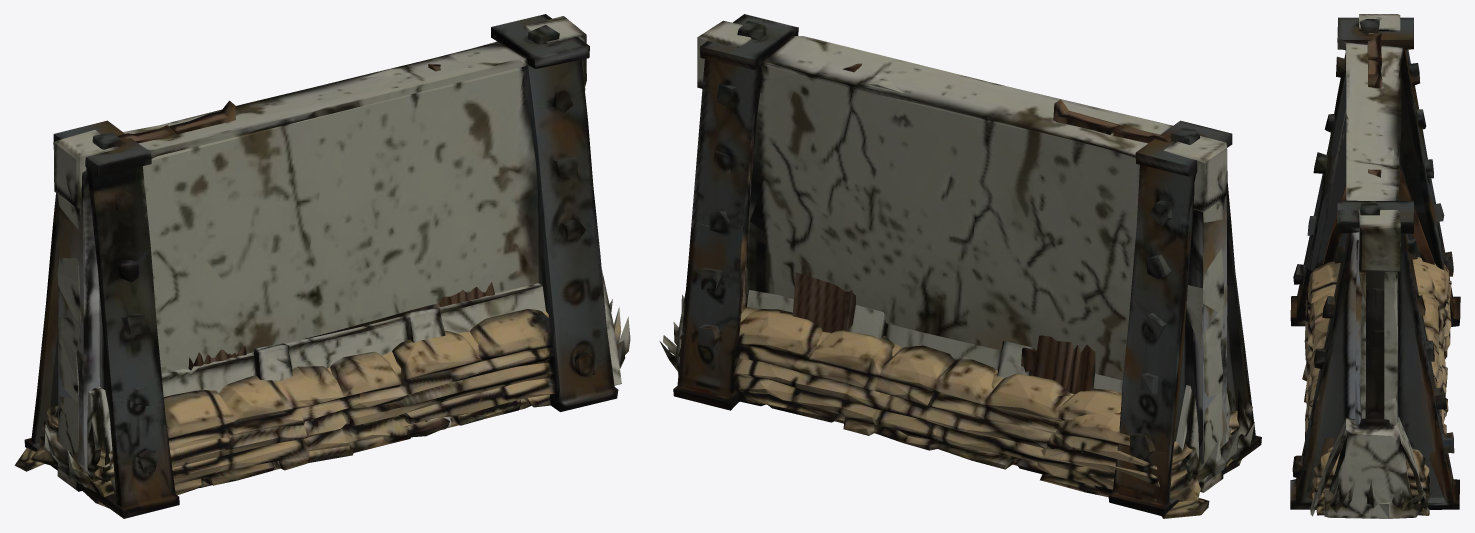
File: fences+3d+model.fbx
The picture shows the model from 3 angles, left to right: view 1: azimuth 30°, elevation 25°; view 2: azimuth 150°, elevation 25°; view 3: azimuth 270°, elevation 25°; orthographic projection. The views are drawn at different scales.
Parts seen in each view (by area): view 1: wall bunker, wall valla, wall Militar, wall chatarra; view 2: wall bunker, wall Militar, wall valla, wall chatarra; view 3: wall bunker, wall valla, wall Militar, wall chatarra.
Part boxes in pixels (x1=…): wall bunker: x1=24, y1=14, x2=618, y2=518; wall valla: x1=43, y1=269, x2=630, y2=498; wall Militar: x1=14, y1=16, x2=586, y2=508; wall chatarra: x1=117, y1=64, x2=494, y2=370; wall bunker: x1=673, y1=14, x2=1261, y2=516; wall Militar: x1=678, y1=20, x2=1241, y2=518; wall valla: x1=659, y1=290, x2=1254, y2=483; wall chatarra: x1=686, y1=63, x2=1171, y2=499; wall bunker: x1=1290, y1=17, x2=1460, y2=509; wall valla: x1=1310, y1=270, x2=1438, y2=518; wall Militar: x1=1312, y1=14, x2=1452, y2=515; wall chatarra: x1=1309, y1=33, x2=1454, y2=499.
Size of the model in its own units: 44.53 by 26.11 by 13.52.
